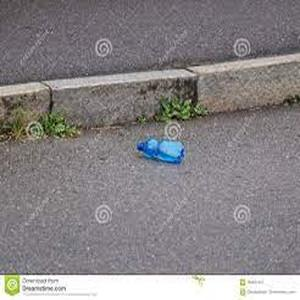Plastic: (131, 134, 188, 168)
